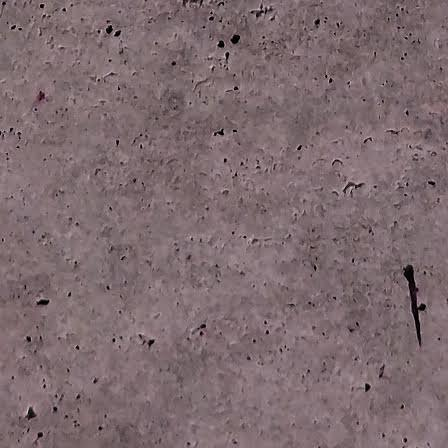spalling: (35, 298, 49, 306)
